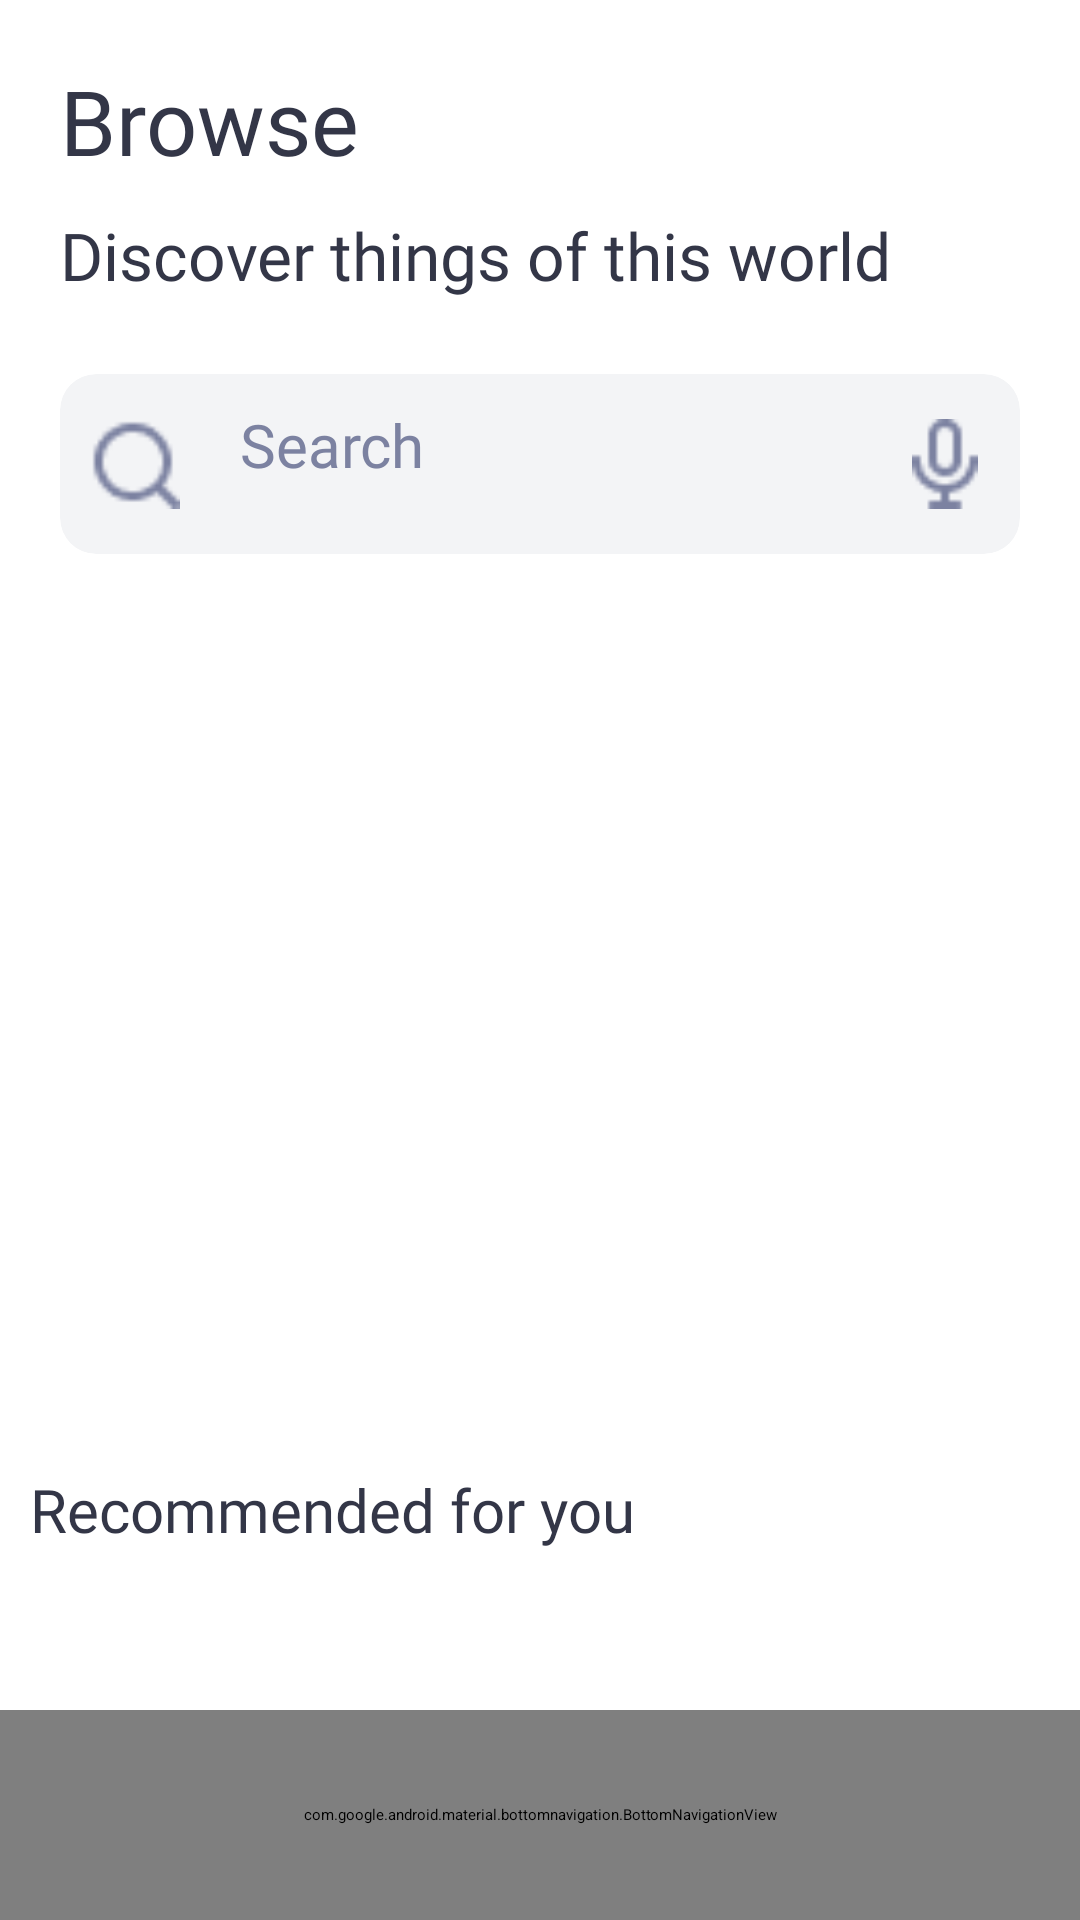

Icon click points for this 1080 x 1920 phone screenshot, format (x=x, y=y):
voice: (x=945, y=464)
